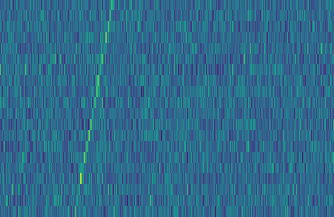signal: (69, 0, 117, 217)
